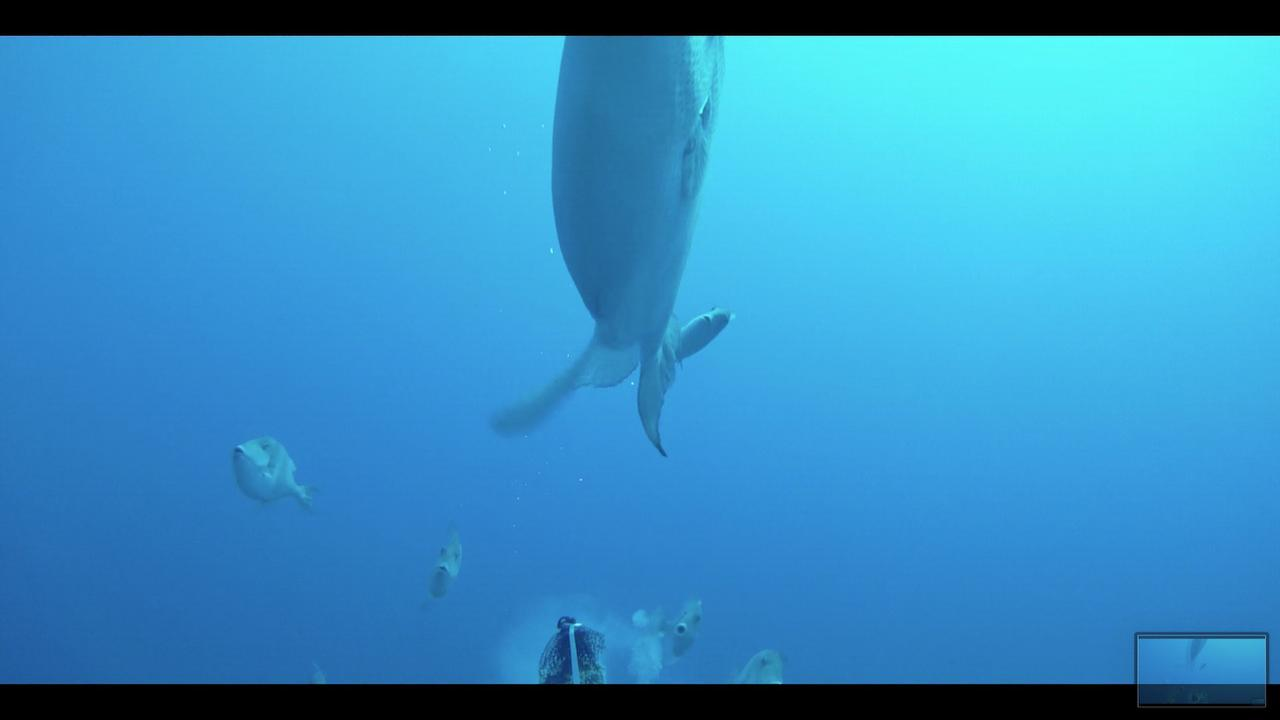balistes: (531, 33, 738, 459), (218, 431, 330, 517), (404, 516, 479, 601), (652, 589, 708, 654)
